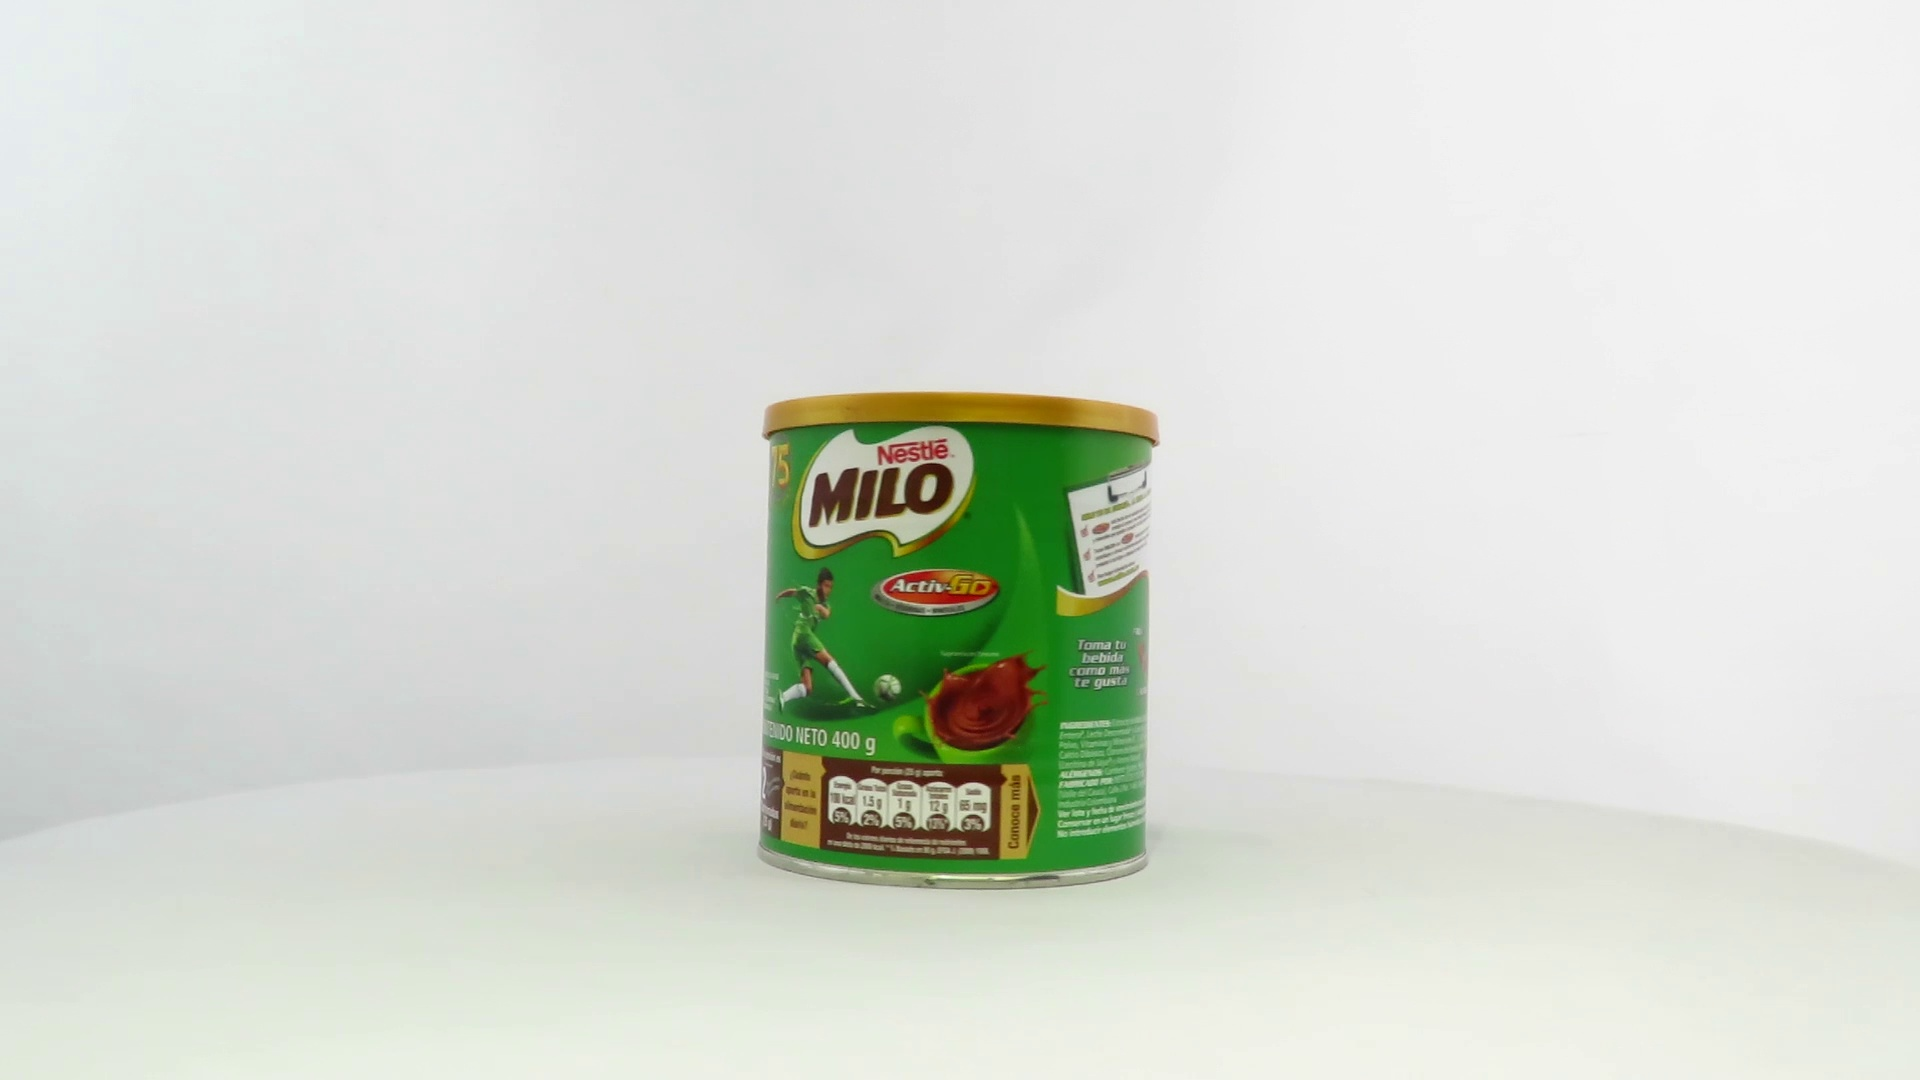COL0170203LAT40000: (752, 386, 1166, 895)
